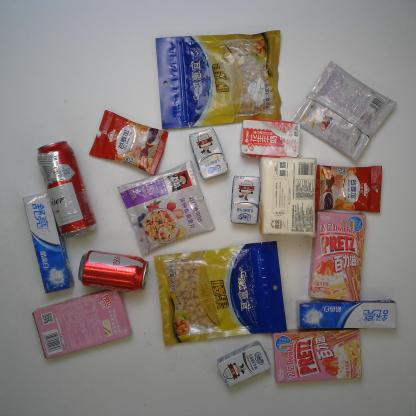Alcohol: (35, 137, 98, 239)
Dessert: (30, 288, 134, 362), (307, 206, 368, 304), (269, 329, 365, 385)
Dried Fruit: (152, 238, 290, 351), (152, 28, 284, 132)
Drink: (76, 248, 150, 293)
Instant Drink: (290, 60, 397, 163), (116, 159, 216, 256), (89, 108, 169, 176), (314, 164, 384, 215)
Milk: (214, 340, 271, 390), (239, 118, 301, 160), (187, 127, 231, 180), (228, 172, 265, 226)
Personal Hygiene: (21, 191, 76, 295), (293, 300, 400, 332)
Tissue: (257, 152, 318, 240)
